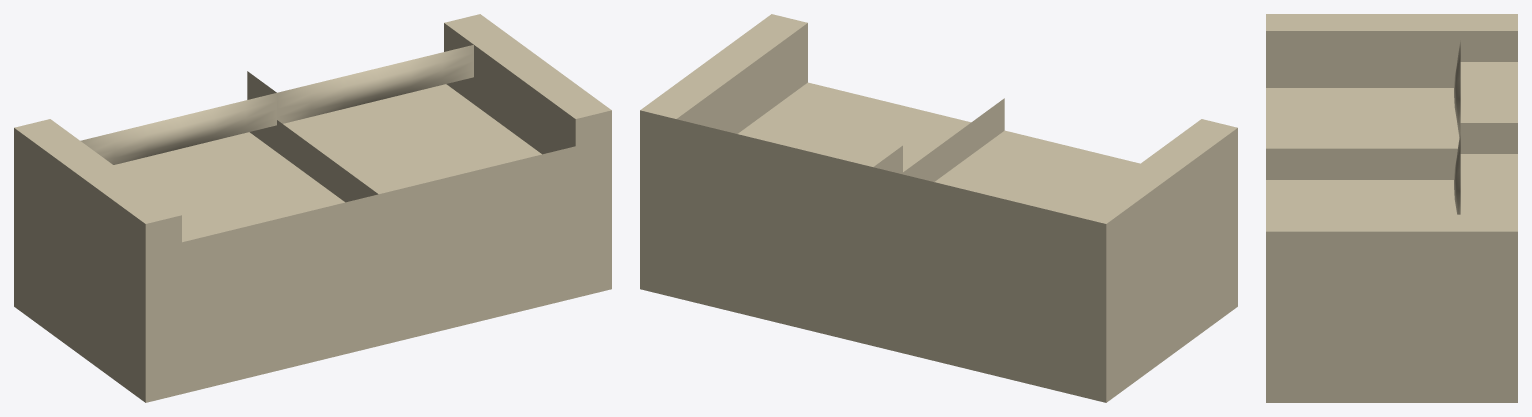
File: ikea-klippan.glb
3 views of the same model, side by side, from view 1: azimuth 30°, elevation 25°; view 2: azimuth 150°, elevation 25°; view 3: azimuth 270°, elevation 25° (orthographic). The views are drawn at different scales.
Bounding box in the file's own units: 1.8 × 0.66 × 0.88.
